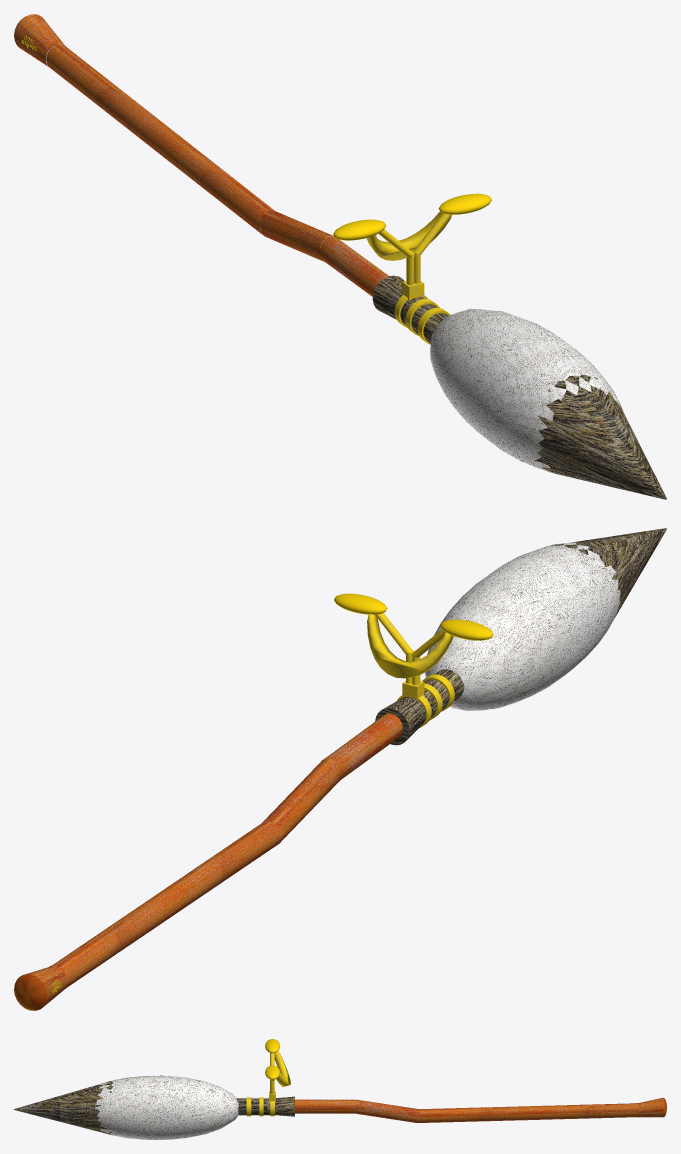
3 views of the same model, one above another, from view 1: azimuth 30°, elevation 25°; view 2: azimuth 150°, elevation 25°; view 3: azimuth 270°, elevation 25° (orthographic). The views are drawn at different scales.
Visible parts, largest first — view 1: SketchUp (×10), SimpleSphere02 (×2); view 2: SketchUp (×10), SimpleSphere02 (×2), SimpleDome02; view 3: SketchUp (×9), SimpleSphere02 (×2).
Part boxes in pixels (x1=…): SketchUp (×10): x1=14, y1=14, x2=666, y2=499; SimpleSphere02 (×2): x1=333, y1=193, x2=491, y2=240; SketchUp (×10): x1=16, y1=528, x2=666, y2=1007; SimpleSphere02 (×2): x1=334, y1=593, x2=493, y2=640; SimpleDome02: x1=14, y1=974, x2=47, y2=1010; SketchUp (×9): x1=14, y1=1051, x2=663, y2=1139; SimpleSphere02 (×2): x1=265, y1=1039, x2=279, y2=1079.
Size of the model in its own units: 140 by 987 by 133.
Materials: 6 (3 with a texture image).
